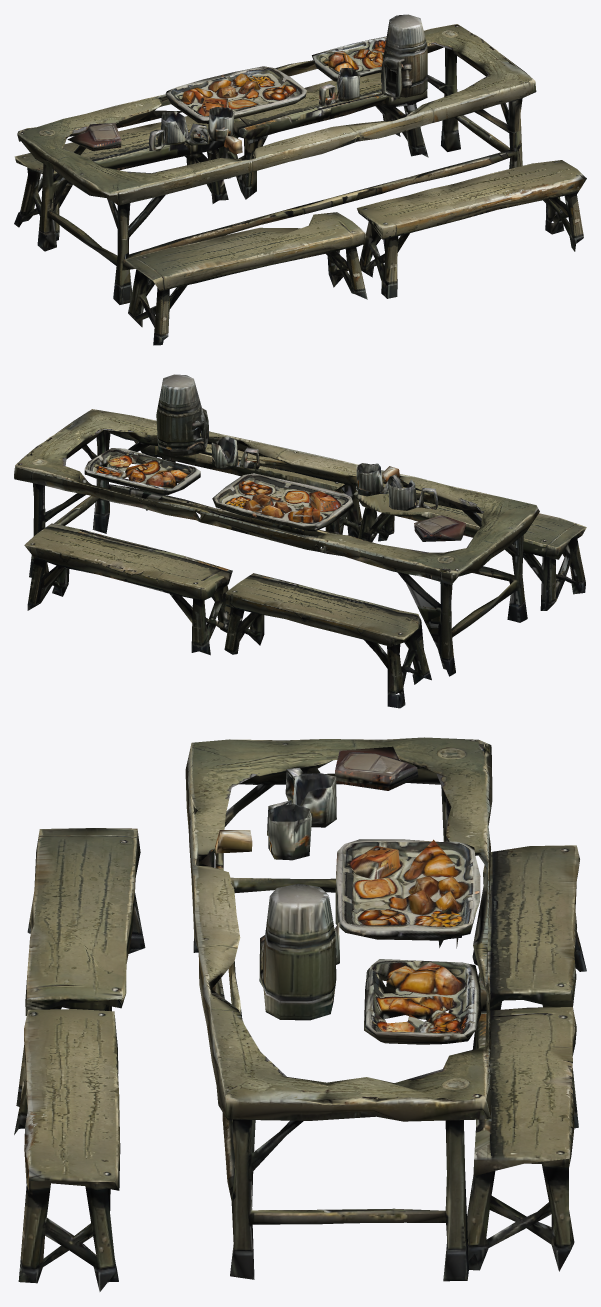
The model's file is EX_Mil_MessTable.fbx.
The picture shows the model from 3 angles, top to bottom: view 1: azimuth 30°, elevation 25°; view 2: azimuth 150°, elevation 25°; view 3: azimuth 270°, elevation 25°; orthographic projection. The views are drawn at different scales.
Parts seen in each view (by area): view 1: texture_mapping; view 2: texture_mapping; view 3: texture_mapping.
Part boxes in pixels (bbox=[...]): texture_mapping: bbox=[14, 14, 586, 345]; texture_mapping: bbox=[14, 374, 586, 708]; texture_mapping: bbox=[14, 737, 586, 1291].
Size of the model in its own units: 0.9964 by 0.6607 by 0.4051.
Materials: 1 (1 with a texture image).
